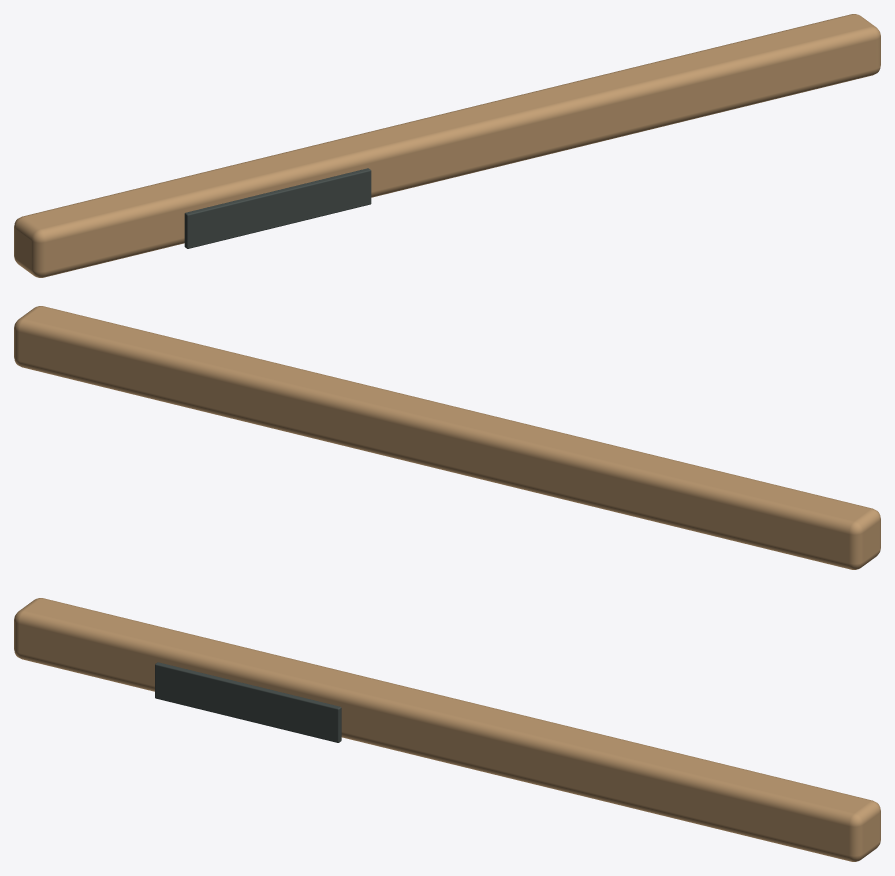
Rendered from beekeeping-and-honey-farm-entrance-reducer-f57e8c86__30705.glb.
3 renders of one model, top to bottom at view 1: azimuth 30°, elevation 25°; view 2: azimuth 150°, elevation 25°; view 3: azimuth 330°, elevation 25°, orthographic.
Visible parts, largest first — view 1: entrance-reducer; view 2: entrance-reducer; view 3: entrance-reducer.
Boxes of the visible parts, <box> form: entrance-reducer: <box>14,14,880,277</box>; entrance-reducer: <box>14,306,880,569</box>; entrance-reducer: <box>14,598,880,861</box>.
Bounding box in the file's own units: 0.46 × 0.025 × 0.028.
